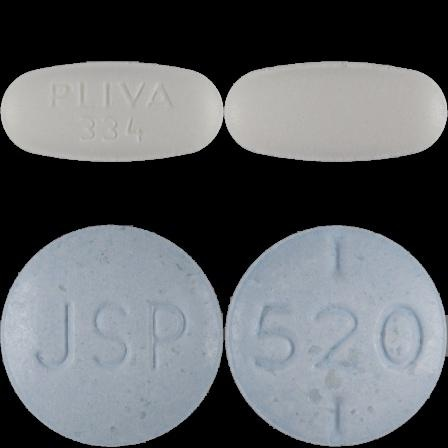60760-334: (0, 0, 224, 224)
